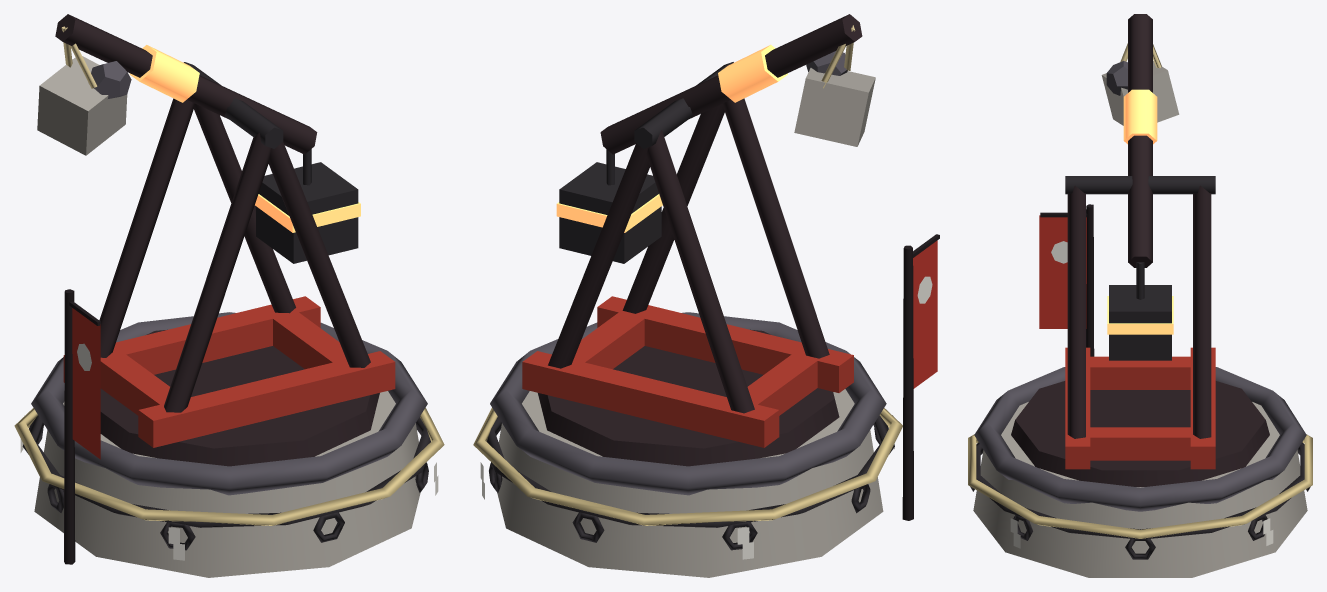
The model's file is tower_catapult_fortressBreaker.glb.
3 views of the same model, side by side, from view 1: azimuth 30°, elevation 25°; view 2: azimuth 150°, elevation 25°; view 3: azimuth 270°, elevation 25° (orthographic). The views are drawn at different scales.
Parts seen in each view (by area): view 1: base, base_rim, turntable, rail_l, aframe_back_l, aframe_back_r, deco_shimenawa_rope, breaker_block, rail_r, aframe_front_l, arm_beam, counterweight (+10 smaller); view 2: base, base_rim, turntable, rail_r, rail_l, aframe_back_r, aframe_back_l, deco_shimenawa_rope, arm_beam, aframe_front_r, counterweight, breaker_block (+9 smaller); view 3: base, turntable, base_rim, arm_beam, aframe_front_l, aframe_front_r, deco_shimenawa_rope, counterweight, cross_e, cross_w, deco_nobori_cloth, axle (+8 smaller).
Boxes of the visible parts, bbox=[...] form: base: bbox=[34, 391, 420, 577]; base_rim: bbox=[31, 312, 427, 495]; turntable: bbox=[100, 329, 379, 466]; rail_l: bbox=[138, 351, 395, 447]; aframe_back_l: bbox=[164, 132, 270, 412]; aframe_back_r: bbox=[99, 98, 194, 357]; deco_shimenawa_rope: bbox=[14, 407, 444, 525]; breaker_block: bbox=[37, 56, 127, 155]; rail_r: bbox=[63, 296, 320, 382]; aframe_front_l: bbox=[268, 142, 370, 367]; arm_beam: bbox=[55, 14, 317, 154]; counterweight: bbox=[256, 162, 358, 263]; base: bbox=[497, 389, 883, 577]; base_rim: bbox=[490, 312, 886, 495]; turntable: bbox=[538, 329, 839, 466]; rail_r: bbox=[522, 351, 779, 447]; rail_l: bbox=[597, 296, 853, 392]; aframe_back_r: bbox=[646, 130, 754, 413]; aframe_back_l: bbox=[722, 98, 829, 358]; deco_shimenawa_rope: bbox=[473, 408, 902, 525]; arm_beam: bbox=[600, 14, 862, 154]; aframe_front_r: bbox=[548, 143, 649, 368]; counterweight: bbox=[559, 162, 661, 263]; breaker_block: bbox=[794, 68, 875, 146]; base: bbox=[973, 402, 1307, 577]; turntable: bbox=[1011, 381, 1269, 486]; base_rim: bbox=[974, 367, 1306, 511]; arm_beam: bbox=[1128, 14, 1152, 267]; aframe_front_l: bbox=[1067, 185, 1085, 438]; aframe_front_r: bbox=[1193, 185, 1211, 438]; deco_shimenawa_rope: bbox=[968, 434, 1312, 538]; counterweight: bbox=[1109, 285, 1171, 360]; cross_e: bbox=[1090, 427, 1190, 460]; cross_w: bbox=[1090, 356, 1190, 389]; deco_nobori_cloth: bbox=[1039, 215, 1086, 328]; axle: bbox=[1065, 176, 1215, 194].
Size of the model in its own units: 0.4426 by 0.5707 by 0.4126.
